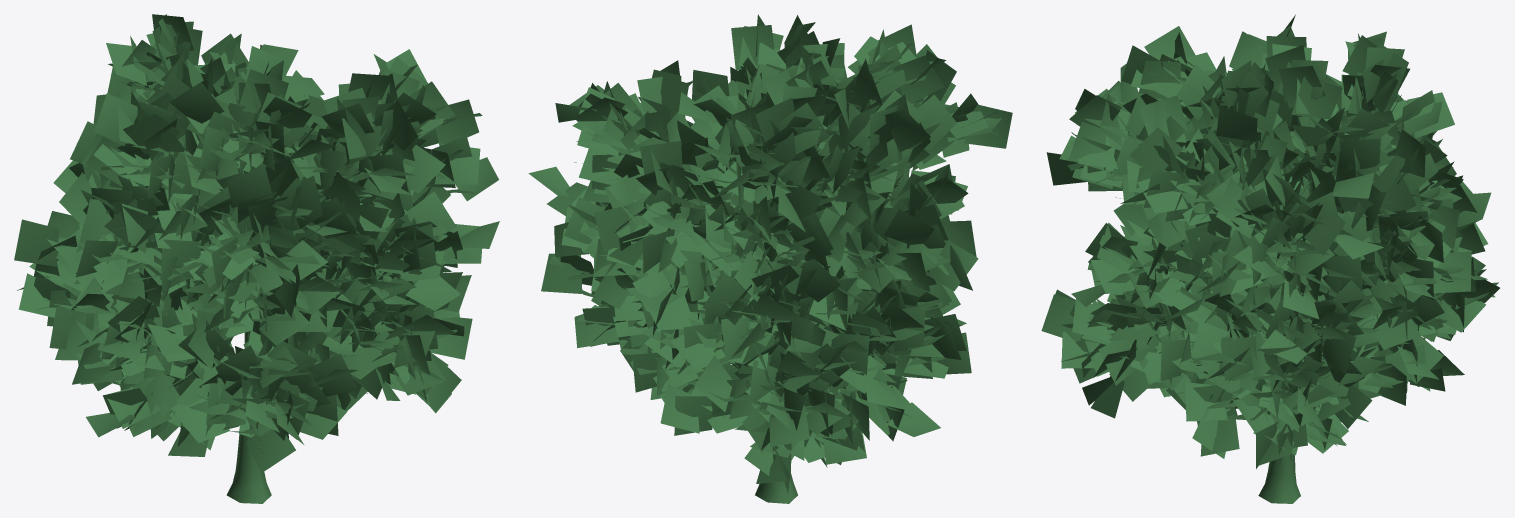
The model's file is Tree_03.fbx.
3 renders of one model, left to right at view 1: azimuth 30°, elevation 25°; view 2: azimuth 150°, elevation 25°; view 3: azimuth 270°, elevation 25°, orthographic. The views are drawn at different scales.
Parts seen in each view (by area): view 1: Tree_3_1; view 2: Tree_3_1; view 3: Tree_3_1.
Part boxes in pixels (x1,y1,x2,y2): Tree_3_1: (14, 14, 499, 503); Tree_3_1: (528, 14, 1012, 503); Tree_3_1: (1041, 14, 1499, 503).
Size of the model in its own units: 368 by 344 by 327.
